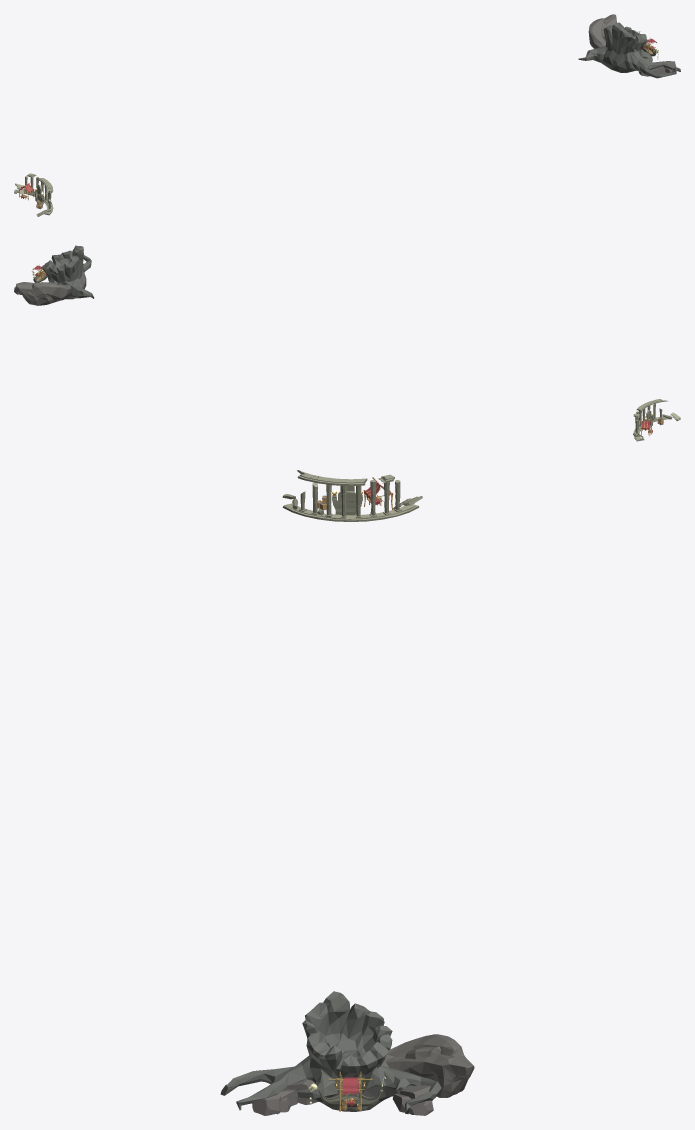
File: stores.glb
3 renders of one model, top to bottom at view 1: azimuth 30°, elevation 25°; view 2: azimuth 150°, elevation 25°; view 3: azimuth 270°, elevation 25°, orthographic. The views are drawn at different scales.
Parts seen in each view (by area): view 1: TreeBlockingHades, RocksStore, PillarStore; view 2: TreeBlockingHades, RocksStore, PillarStore; view 3: TreeBlockingHades, RocksStore, PillarStore, QueronteBoat_Store.
Boxes of the visible parts, x1,y1,x2,y2 form: TreeBlockingHades: (578,22,680,78); RocksStore: (588,14,676,76); PillarStore: (14,173,53,216); TreeBlockingHades: (42,245,94,299); RocksStore: (14,282,71,305); PillarStore: (633,399,680,441); TreeBlockingHades: (220,991,441,1114); RocksStore: (252,1034,474,1115); PillarStore: (282,470,422,521); QueronteBoat_Store: (308,1071,386,1111).
Bounding box in the file's own units: 221 × 16.57 × 38.33.
Materials: 1 (1 with a texture image).
